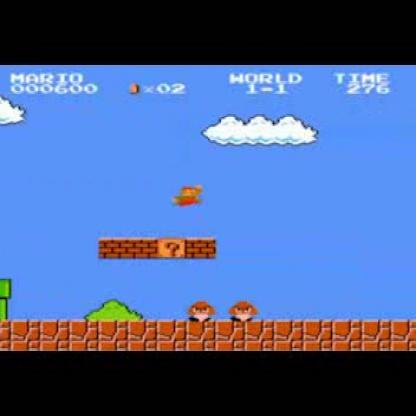Goomba: (230, 296, 259, 322), (190, 299, 218, 320)
